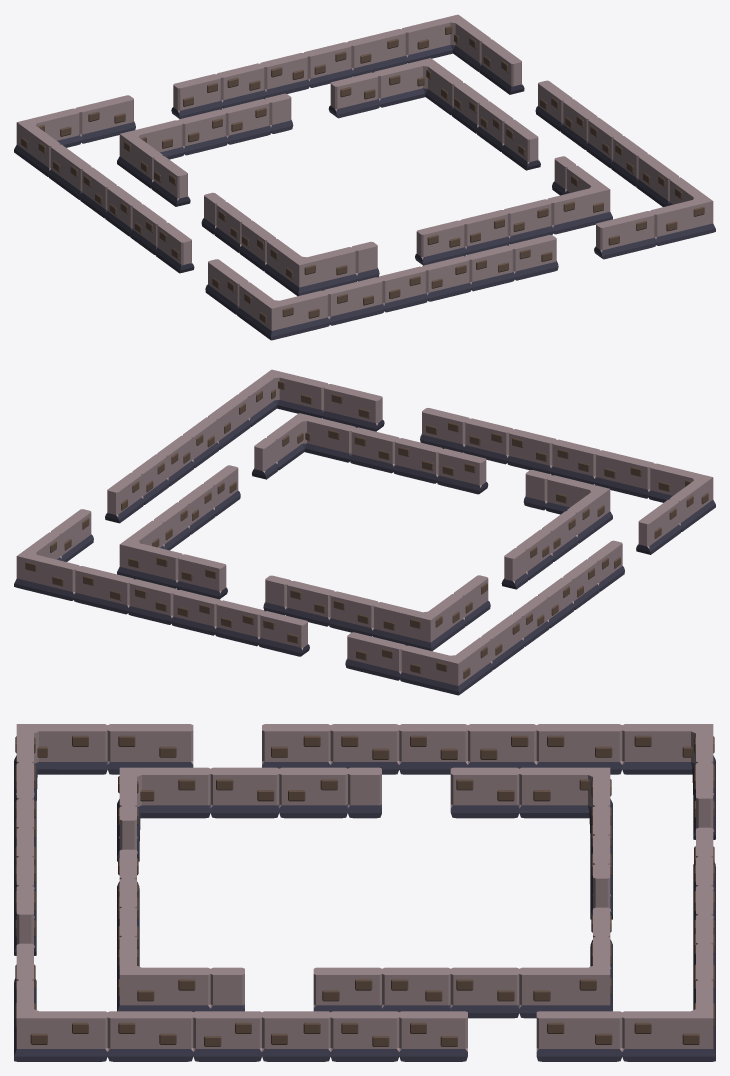
File: SupermarketWall.fbx
The picture shows the model from 3 angles, top to bottom: view 1: azimuth 30°, elevation 25°; view 2: azimuth 150°, elevation 25°; view 3: azimuth 270°, elevation 25°; orthographic projection. The views are drawn at different scales.
Parts seen in each view (by area): view 1: Walls; view 2: Walls; view 3: Walls.
Boxes of the visible parts, bbox=[...] form: Walls: bbox=[14, 14, 715, 340]; Walls: bbox=[14, 369, 715, 695]; Walls: bbox=[14, 724, 715, 1061].
Size of the model in its own units: 31.92 by 2.18 by 31.92.
